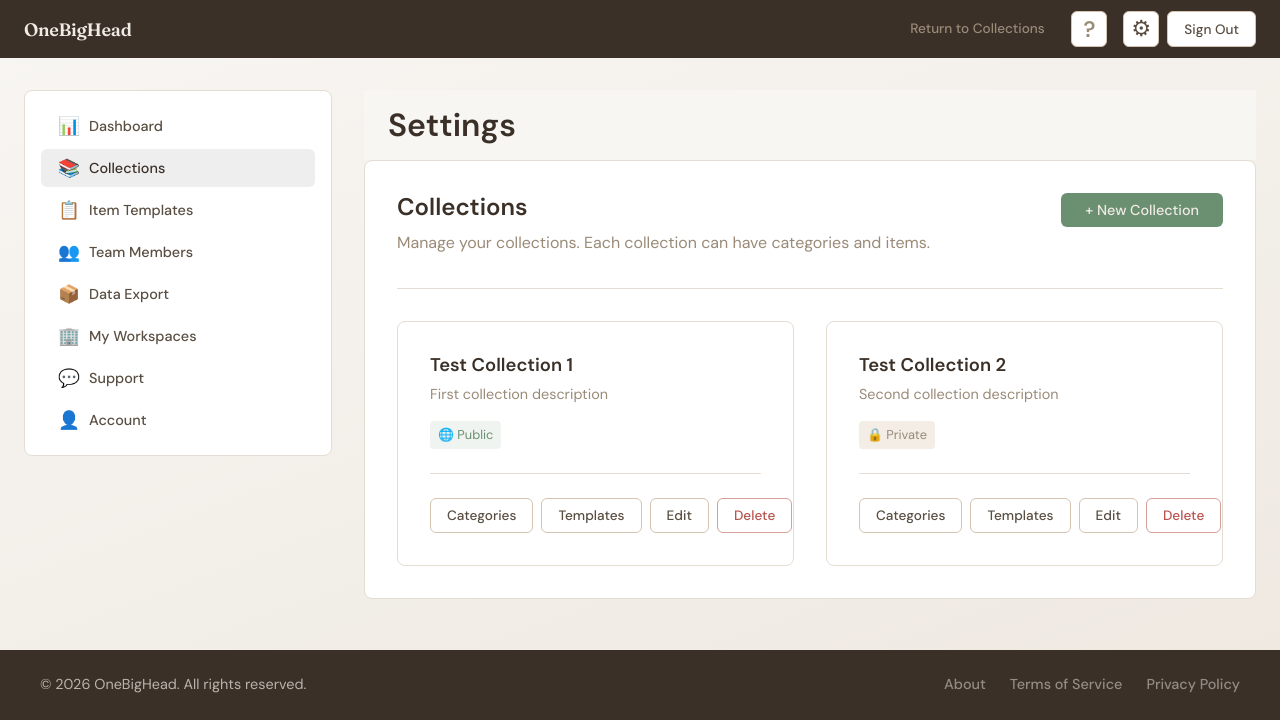
Test case: SettingsView › collections section - edit mode › should cancel edit and return to list
Step 1. Click the button "Edit" below "🌐 Public" → (679, 515), box top-left (650, 498), bottom-right (709, 533)
(page scrolled)
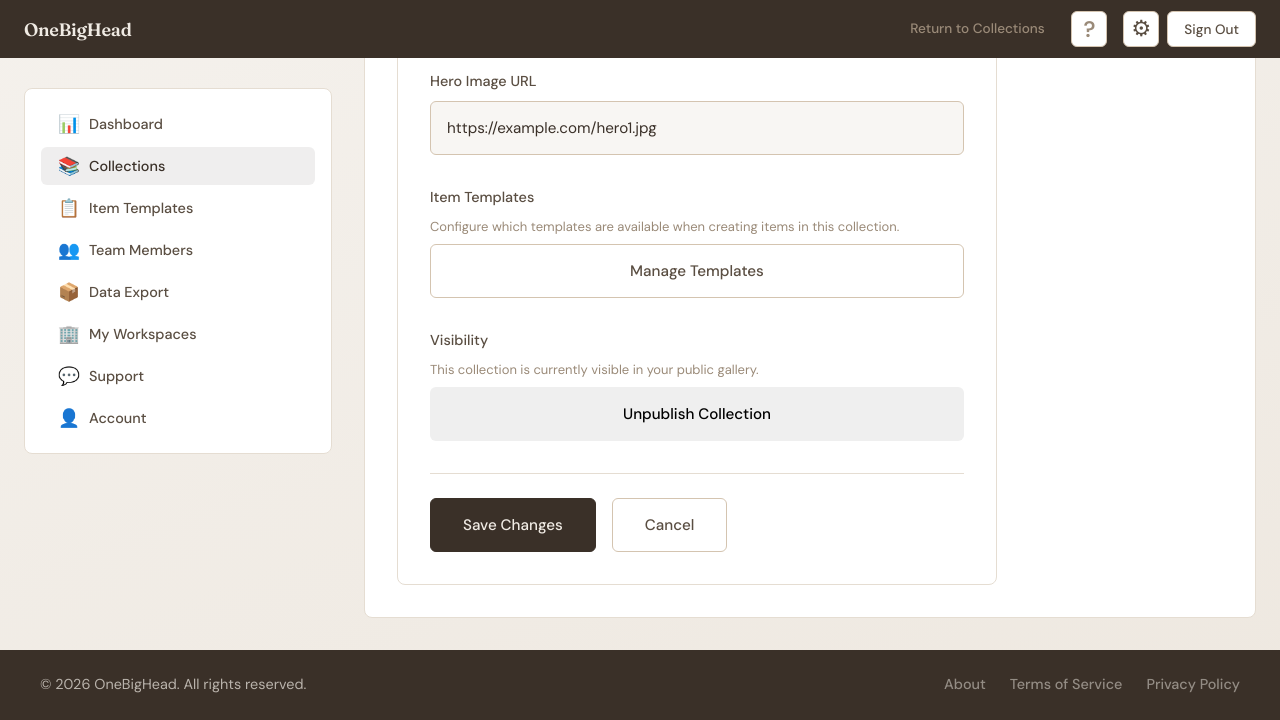
Step 2. Click the button "Cancel" → (670, 525), box top-left (612, 498), bottom-right (727, 552)
(page scrolled)
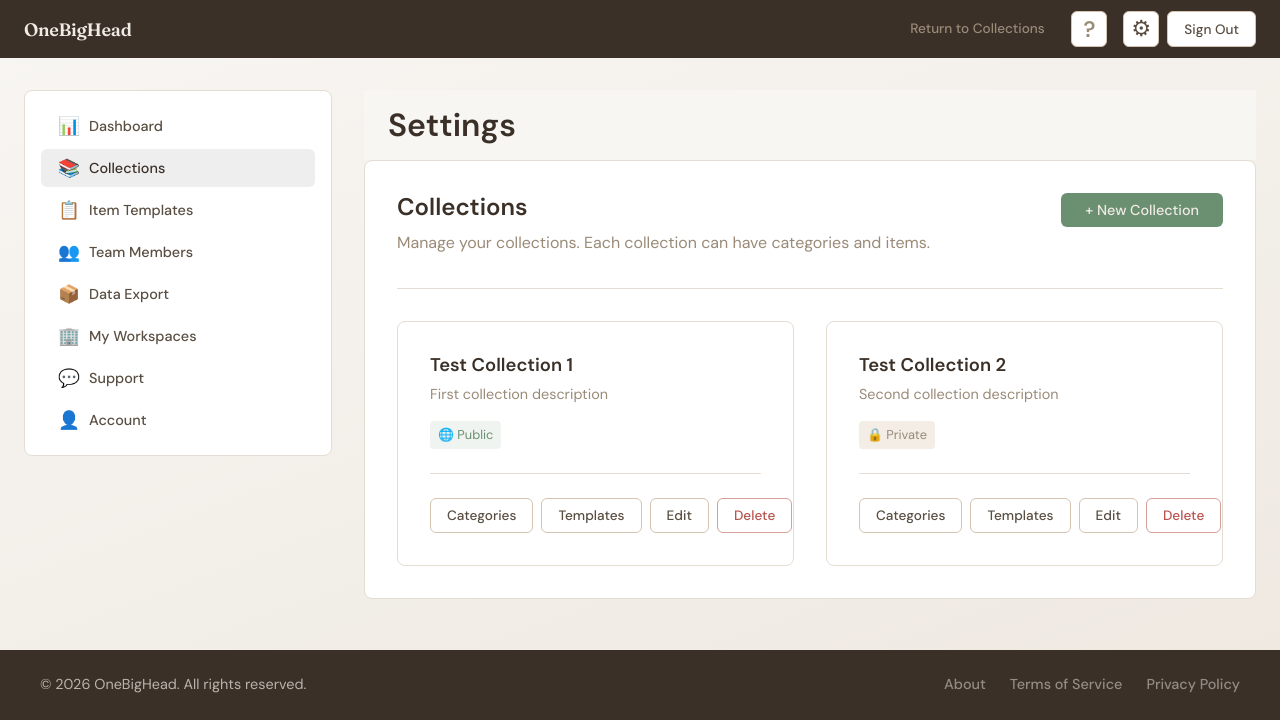
Check: the heading "Test Collection 1" is shown, box top-left (430, 353), bottom-right (573, 377)
